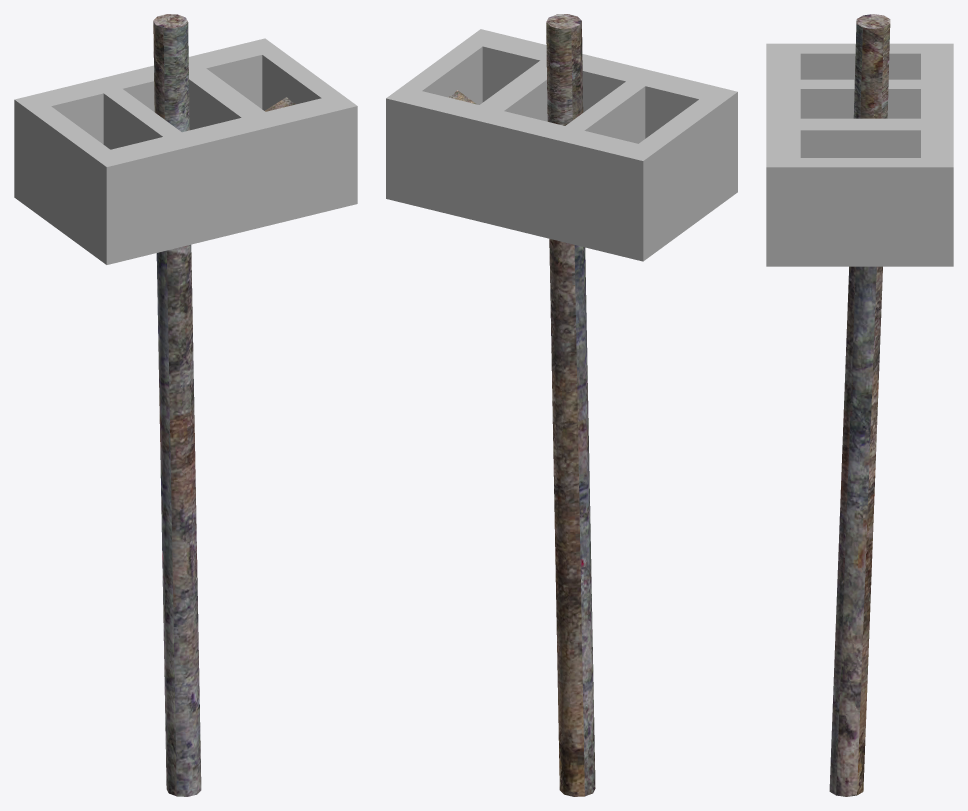
The model's file is Hammer.FBX.
3 renders of one model, left to right at view 1: azimuth 30°, elevation 25°; view 2: azimuth 150°, elevation 25°; view 3: azimuth 270°, elevation 25°, orthographic. The views are drawn at different scales.
Visible parts, largest first — view 1: Box002, Cylinder002; view 2: Box002, Cylinder002; view 3: Box002, Cylinder002.
Part boxes in pixels (left/top/right/bottom): Box002: left=14, top=38, right=357, bottom=264; Cylinder002: left=153, top=14, right=295, bottom=796; Box002: left=386, top=29, right=737, bottom=261; Cylinder002: left=448, top=14, right=595, bottom=796; Box002: left=766, top=43, right=953, bottom=266; Cylinder002: left=829, top=14, right=890, bottom=796.
Bounding box in the file's own units: 1.78 × 5.15 × 1.14.
